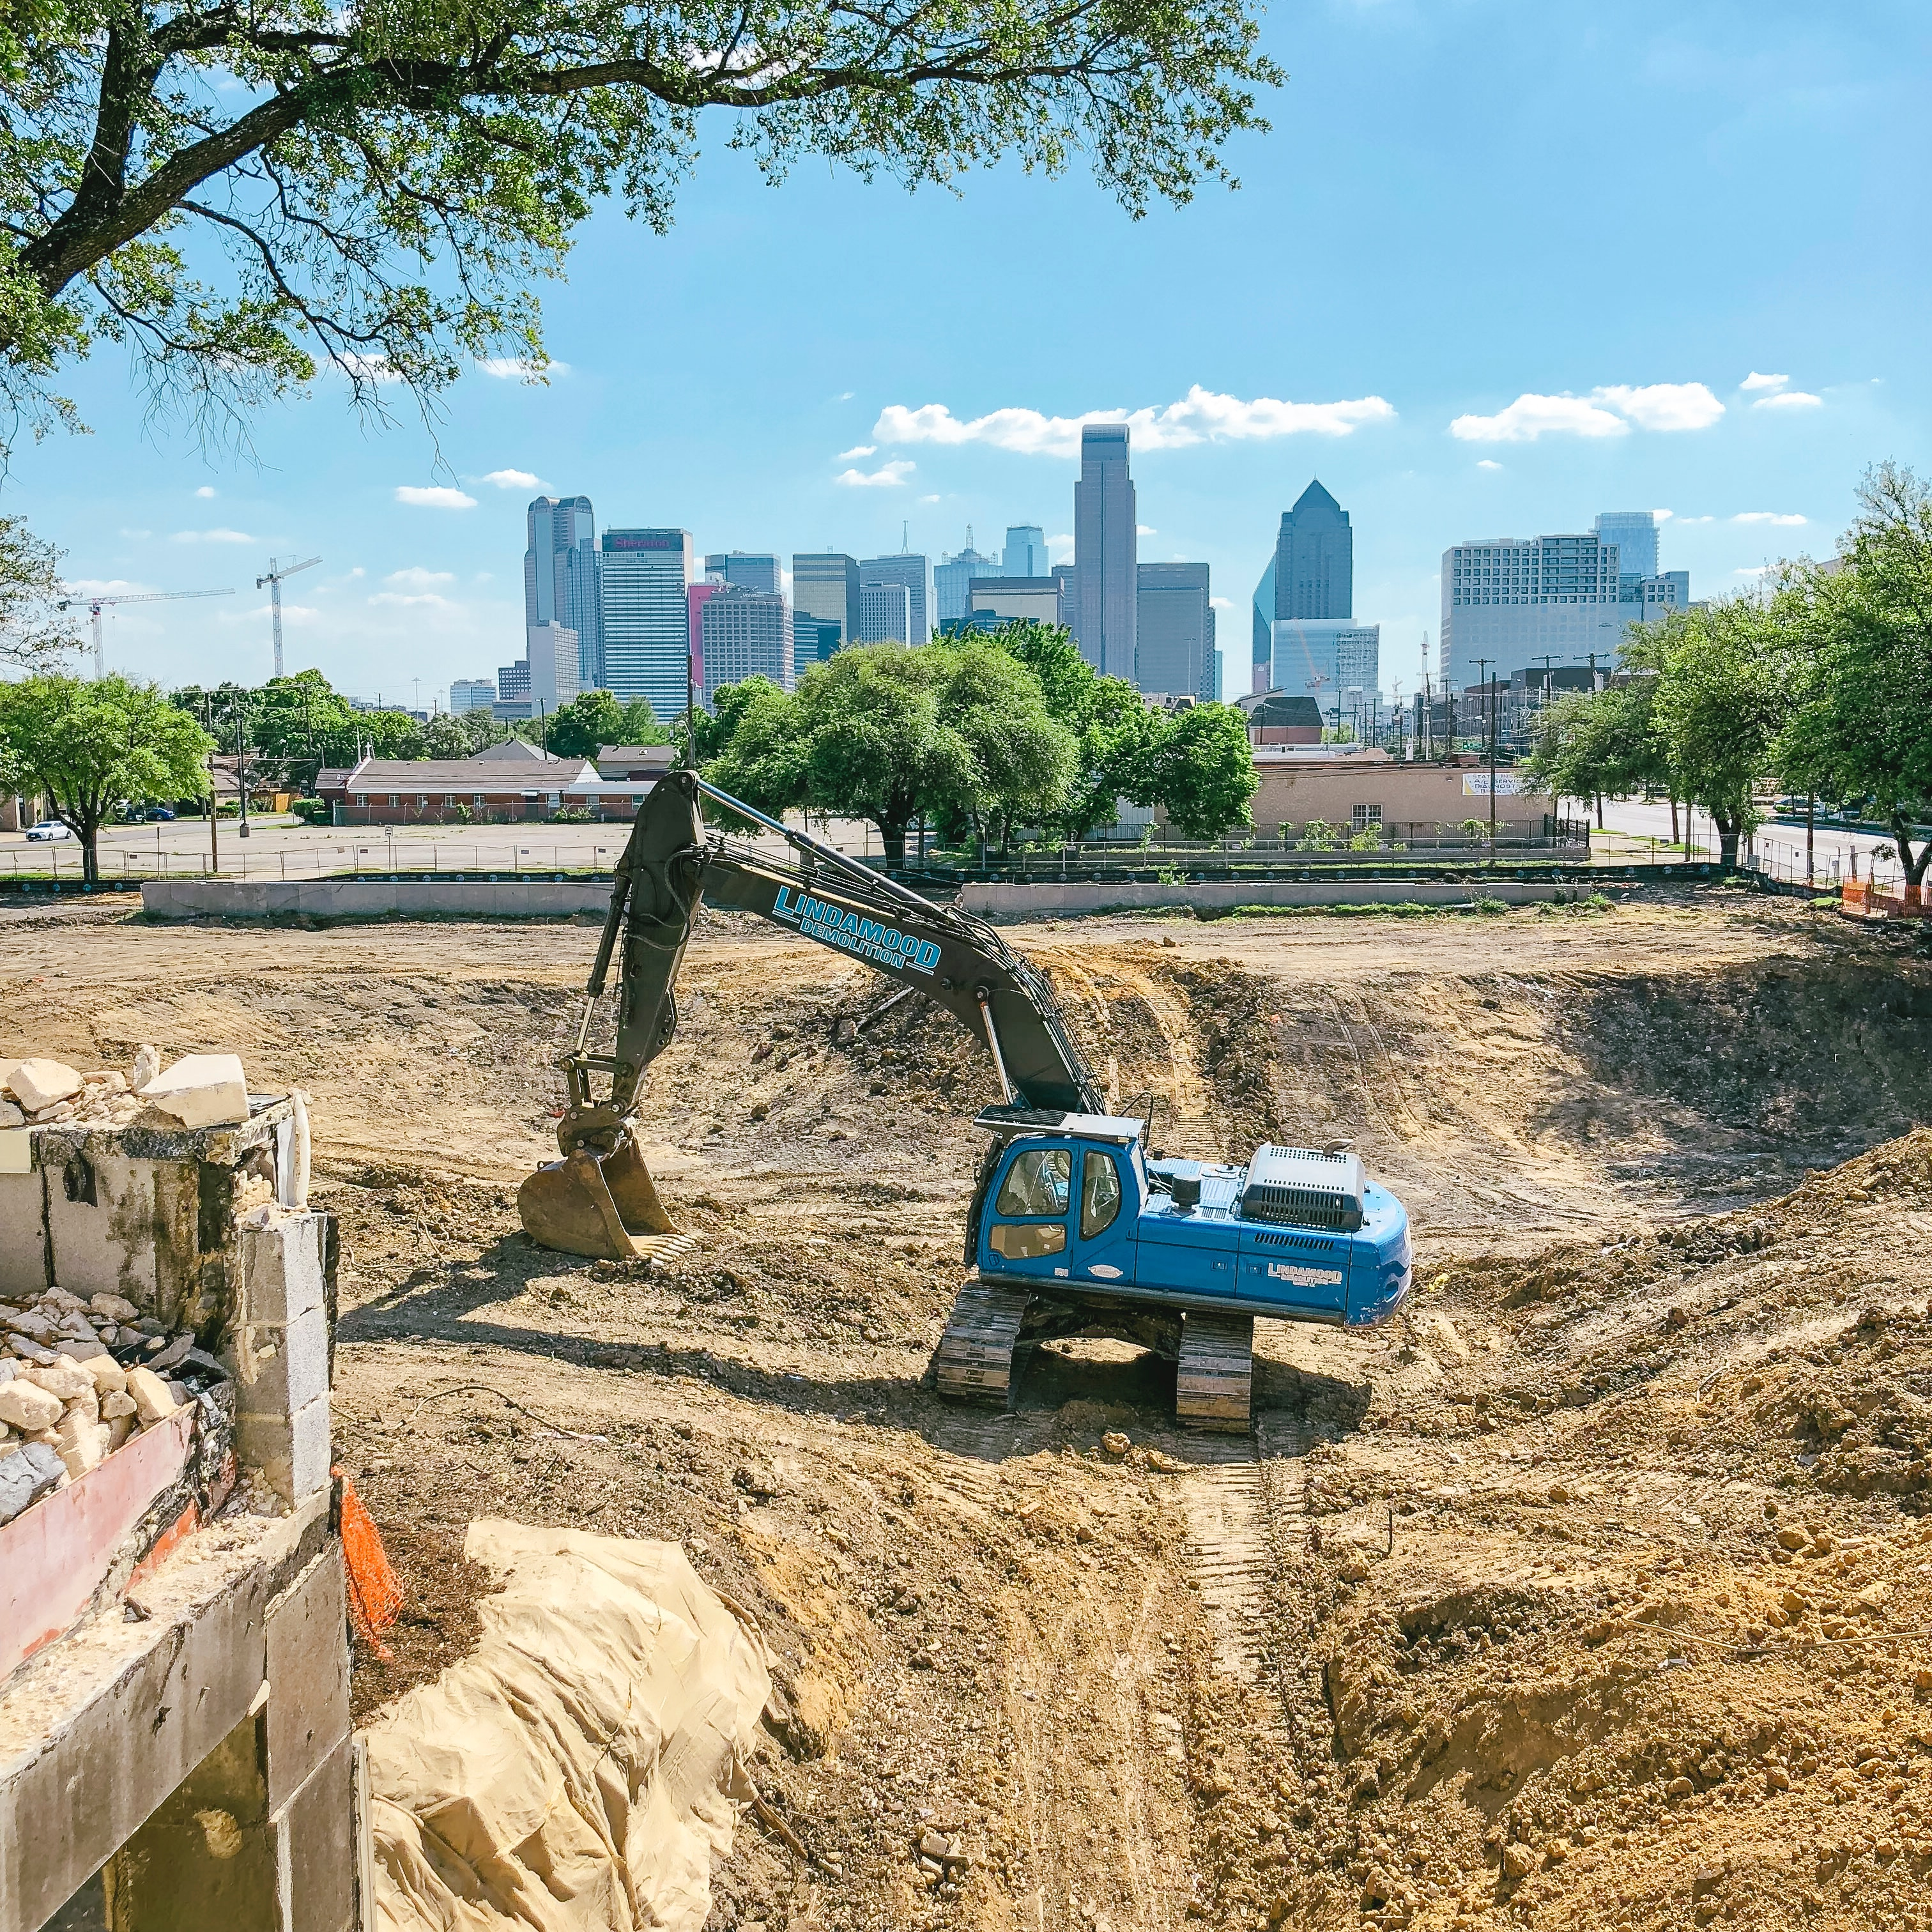excavator: (550, 770, 1408, 1472)
